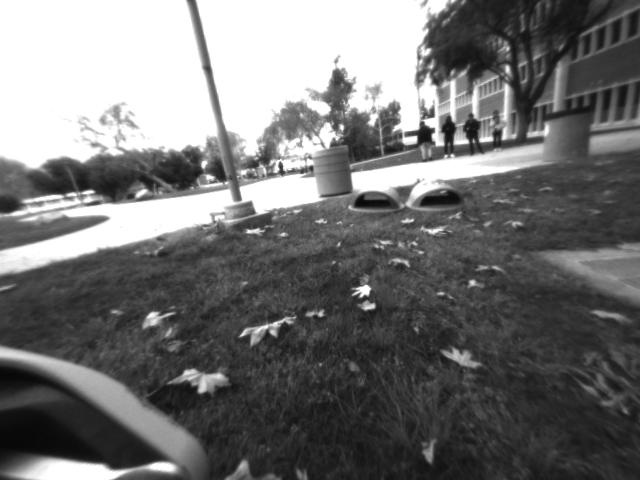trashcan: (537, 104, 604, 168), (306, 143, 357, 197)
